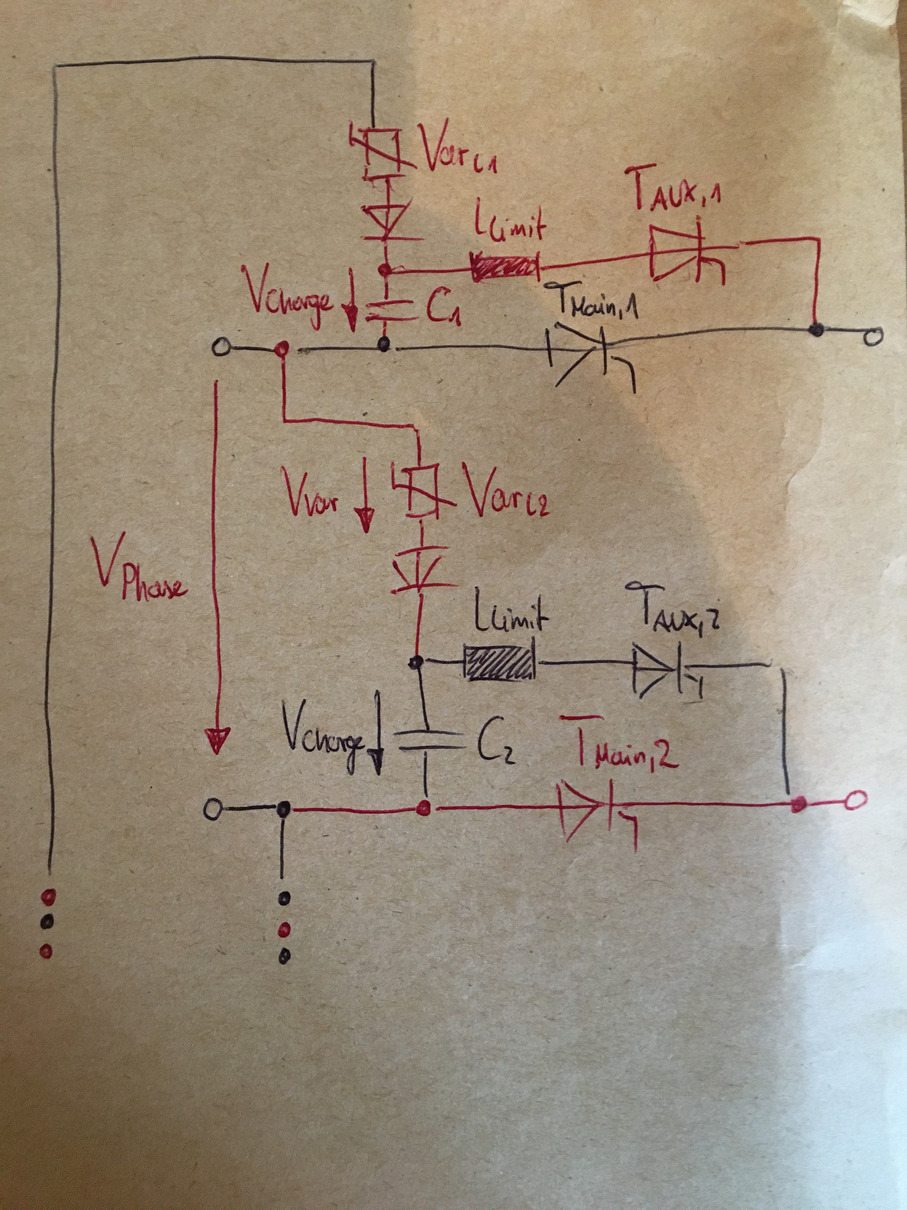capacitor.unpolarized: (392, 726, 472, 757), (364, 296, 420, 327)
diode: (385, 543, 462, 597), (358, 198, 426, 245)
inductor: (460, 634, 540, 685), (467, 248, 544, 286)
junction: (271, 338, 303, 363), (783, 789, 811, 817), (415, 794, 442, 820), (805, 317, 831, 342), (272, 797, 298, 821), (375, 260, 402, 283), (405, 651, 431, 674), (374, 333, 399, 356), (766, 659, 789, 677), (408, 420, 424, 438), (46, 60, 64, 76), (279, 413, 294, 430), (811, 232, 828, 247), (366, 55, 382, 69)
terminal: (37, 865, 60, 908), (842, 787, 870, 814), (860, 324, 887, 351), (201, 795, 224, 823), (275, 873, 293, 908), (209, 334, 233, 359)
text: (556, 711, 681, 775), (87, 530, 194, 602), (238, 259, 336, 333), (278, 696, 366, 778), (622, 577, 722, 639), (458, 458, 552, 519), (622, 160, 726, 213), (416, 115, 501, 178), (541, 278, 642, 322), (470, 582, 551, 633), (472, 193, 549, 246), (277, 461, 342, 520), (475, 712, 521, 770), (423, 283, 465, 330)
thyristor: (542, 319, 638, 388), (553, 775, 642, 848), (645, 214, 730, 286), (626, 638, 706, 700)
varistor: (345, 117, 419, 184), (386, 458, 457, 525)
